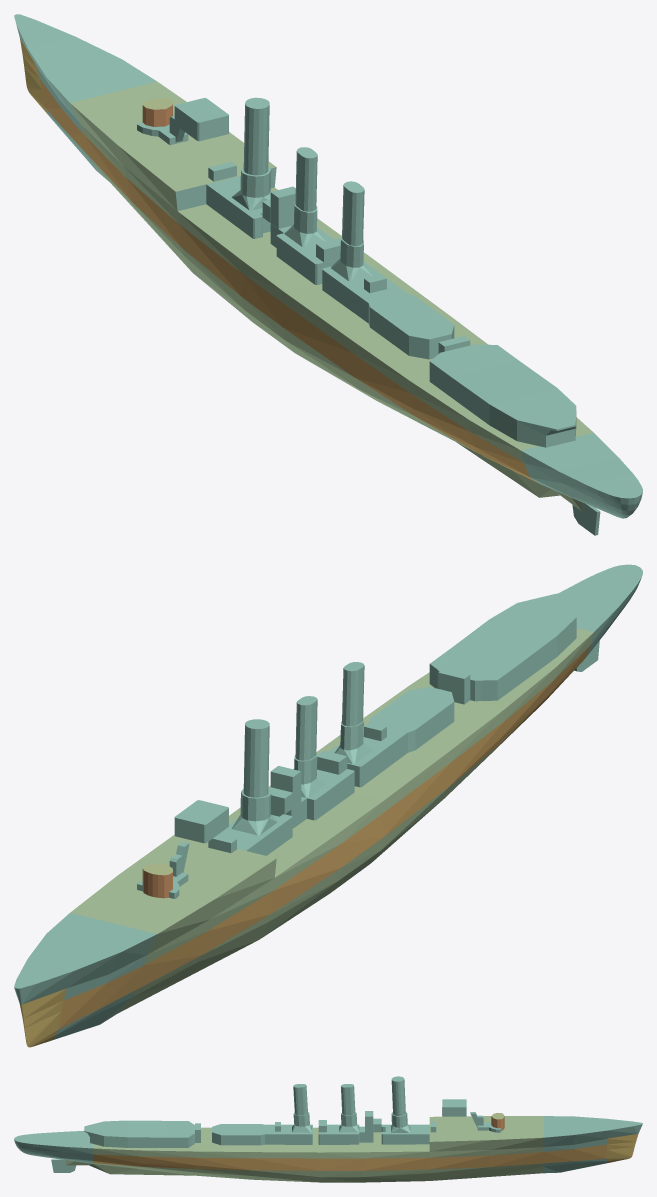
The model's file is PGSC104_armor.glb.
3 renders of one model, top to bottom at view 1: azimuth 30°, elevation 25°; view 2: azimuth 150°, elevation 25°; view 3: azimuth 270°, elevation 25°, orthographic. The views are drawn at different scales.
Parts seen in each view (by area): view 1: armor; view 2: armor; view 3: armor.
Boxes of the visible parts, x1,y1,x2,y2 form: armor: [14, 14, 642, 535]; armor: [14, 564, 642, 1047]; armor: [14, 1076, 642, 1182].
Size of the model in its own units: 18.83 by 33.31 by 200.
